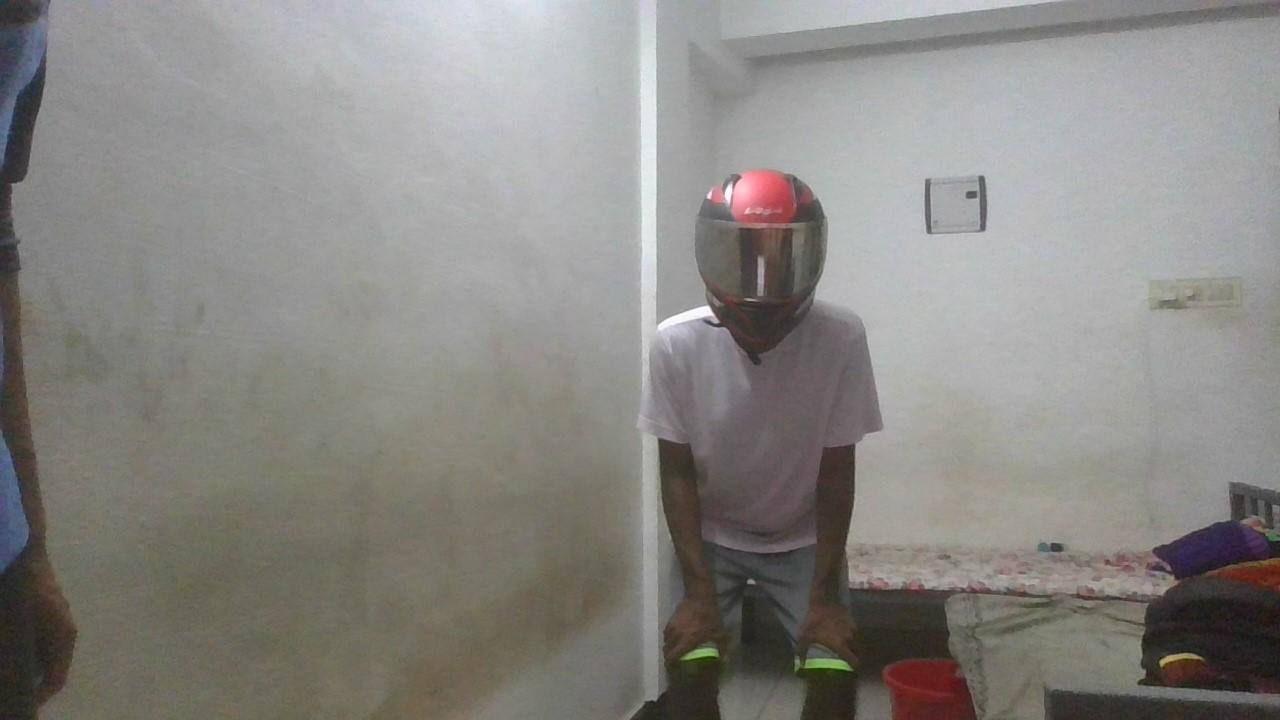helmet: (692, 168, 830, 354)
